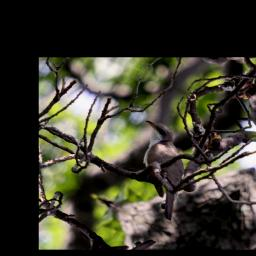Cuckoo: (98, 114, 219, 224)
